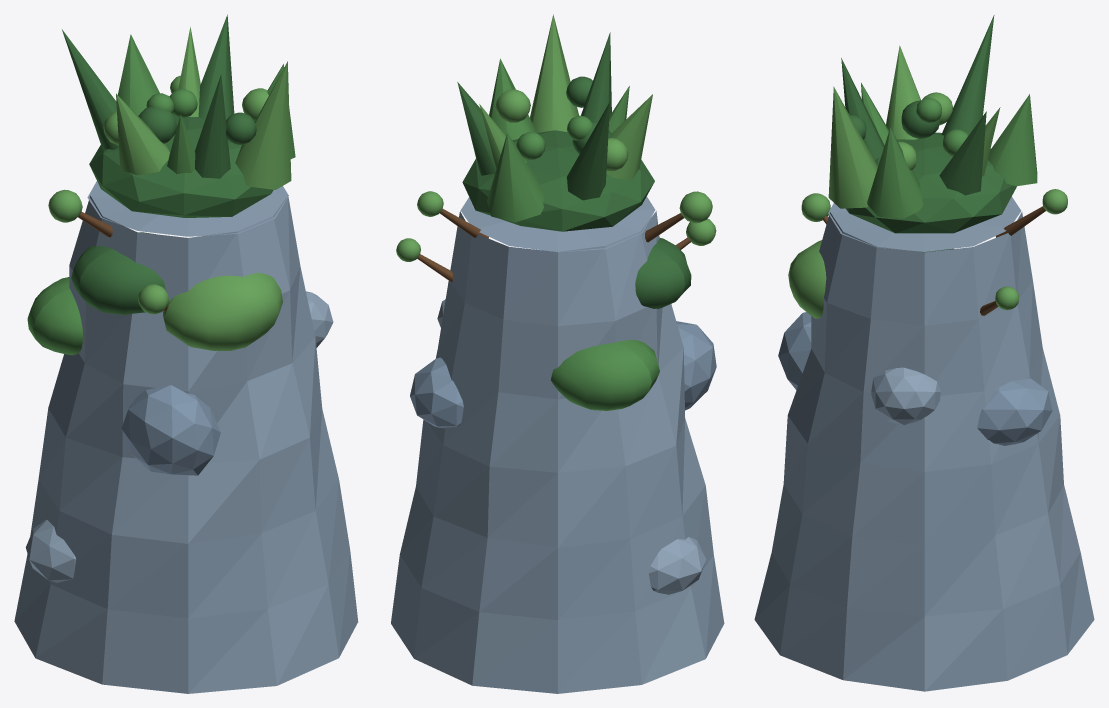
File: tower_blue.glb
3 renders of one model, left to right at view 1: azimuth 30°, elevation 25°; view 2: azimuth 150°, elevation 25°; view 3: azimuth 270°, elevation 25°, orthographic. The views are drawn at different scales.
Parts seen in each view (by area): view 1: tower_blue; view 2: tower_blue; view 3: tower_blue.
Boxes of the visible parts, left/top/right/bottom form: tower_blue: left=14, top=14, right=358, bottom=693; tower_blue: left=391, top=14, right=724, bottom=693; tower_blue: left=754, top=15, right=1094, bottom=691.
Bounding box in the file's own units: 8 × 14.73 × 8.
